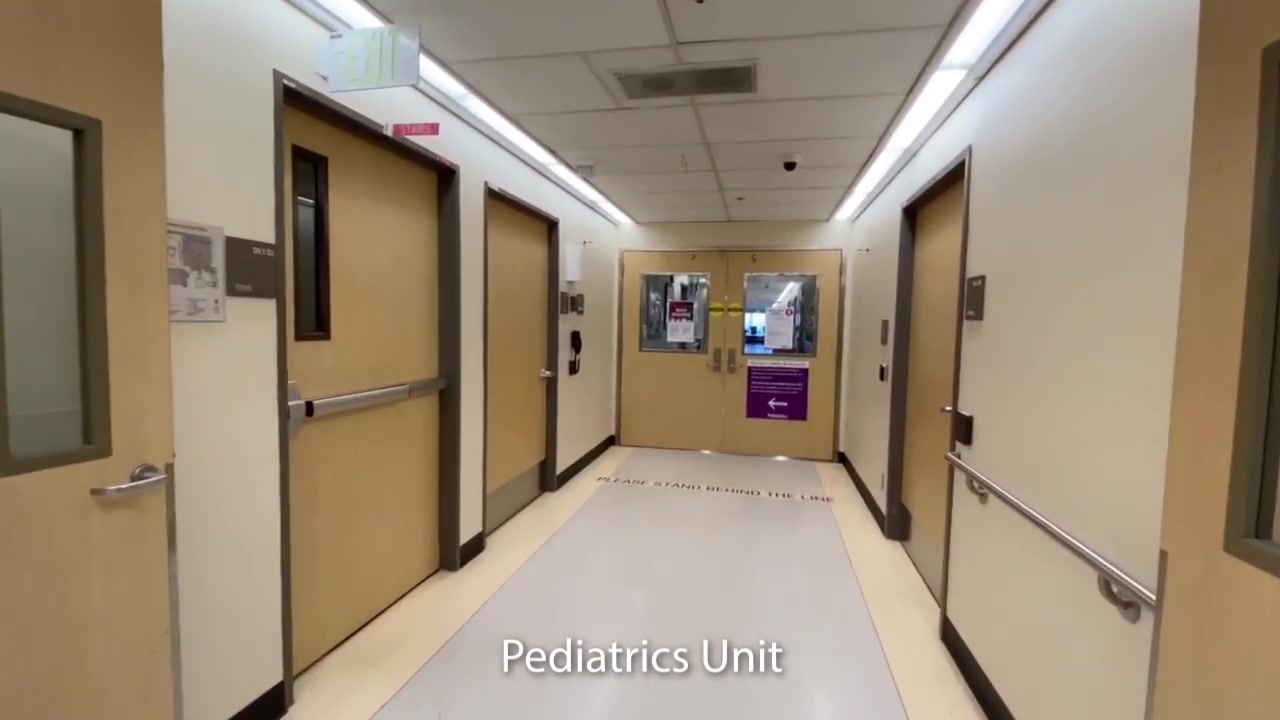door_handle: (88, 465, 174, 502), (538, 368, 554, 382), (704, 361, 720, 369), (730, 362, 745, 370)
hallway_assist_bar: (945, 451, 1164, 624)
push_latch: (286, 377, 449, 434)
